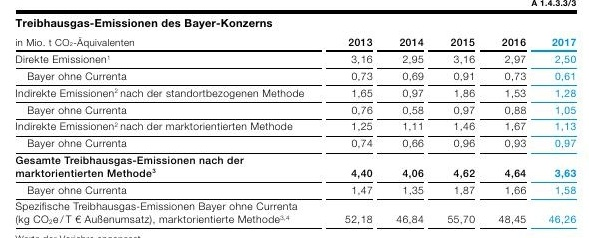table: (0, 0, 589, 238)
